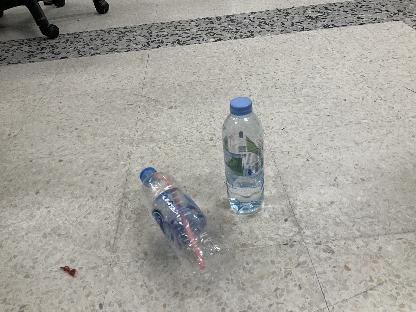Plastic Bottle: (140, 166, 233, 284), (222, 98, 264, 216)
